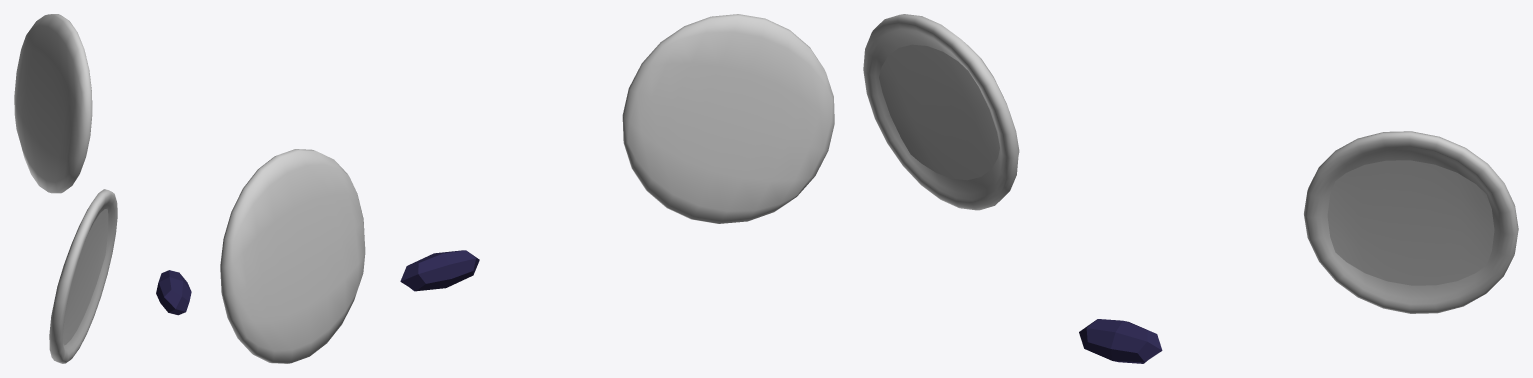
The model's file is doll_eyes.fbx.
The picture shows the model from 3 angles, left to right: view 1: azimuth 30°, elevation 25°; view 2: azimuth 150°, elevation 25°; view 3: azimuth 270°, elevation 25°; orthographic projection. The views are drawn at different scales.
Parts seen in each view (by area): view 1: Cube; view 2: Cube; view 3: Cube.
Part boxes in pixels (x1,y1,x2,y2): Cube: (14, 14, 191, 363); Cube: (220, 14, 834, 363); Cube: (863, 14, 1518, 363).
Bounding box in the file's own units: 90.19 × 72.35 × 173.
